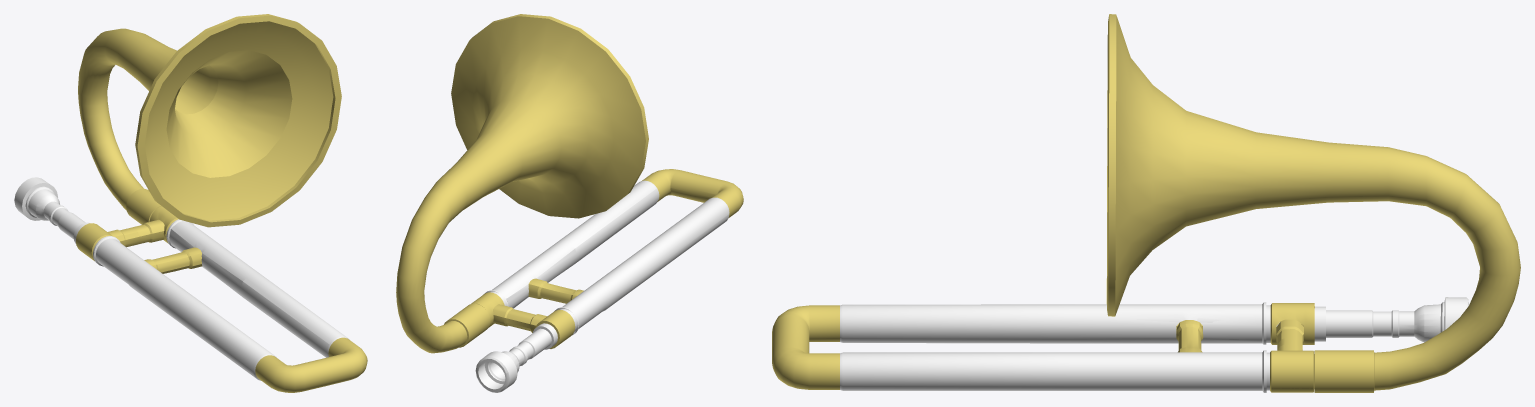
Rendered from trombone.glb.
The picture shows the model from 3 angles, left to right: view 1: azimuth 30°, elevation 25°; view 2: azimuth 150°, elevation 25°; view 3: azimuth 270°, elevation 25°; orthographic projection. The views are drawn at different scales.
Visible parts, largest first — view 1: Object_10; view 2: Object_10; view 3: Object_10.
Boxes of the visible parts, x1=… form: Object_10: x1=14, y1=14, x2=367, y2=392; Object_10: x1=396, y1=14, x2=743, y2=392; Object_10: x1=772, y1=14, x2=1520, y2=392.
Size of the model in its own units: 0.4198 by 0.543 by 1.
